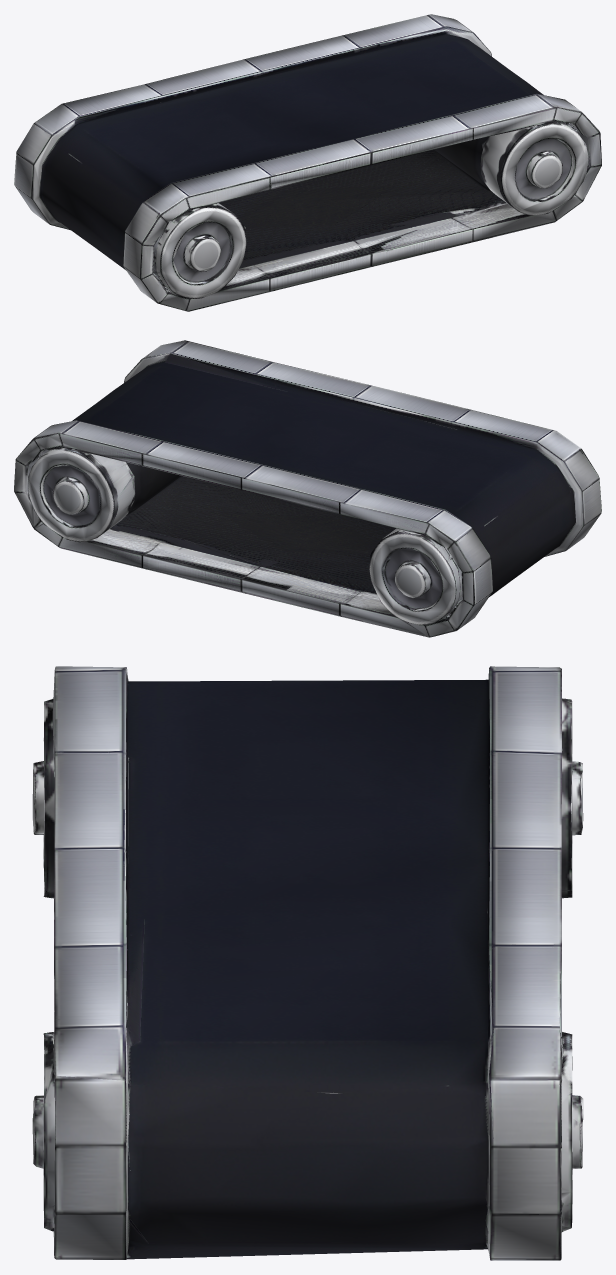
File: Belt.glb.glb
3 renders of one model, top to bottom at view 1: azimuth 30°, elevation 25°; view 2: azimuth 150°, elevation 25°; view 3: azimuth 270°, elevation 25°, orthographic. The views are drawn at different scales.
Parts seen in each view (by area): view 1: Mesh_0; view 2: Mesh_0; view 3: Mesh_0.
Boxes of the visible parts, left/top/right/bottom form: Mesh_0: left=14, top=14, right=601, bottom=311; Mesh_0: left=14, top=340, right=601, bottom=637; Mesh_0: left=32, top=666, right=583, bottom=1260.
Size of the model in its own units: 1.91 by 0.4588 by 0.9854.
Materials: 1 (1 with a texture image).
